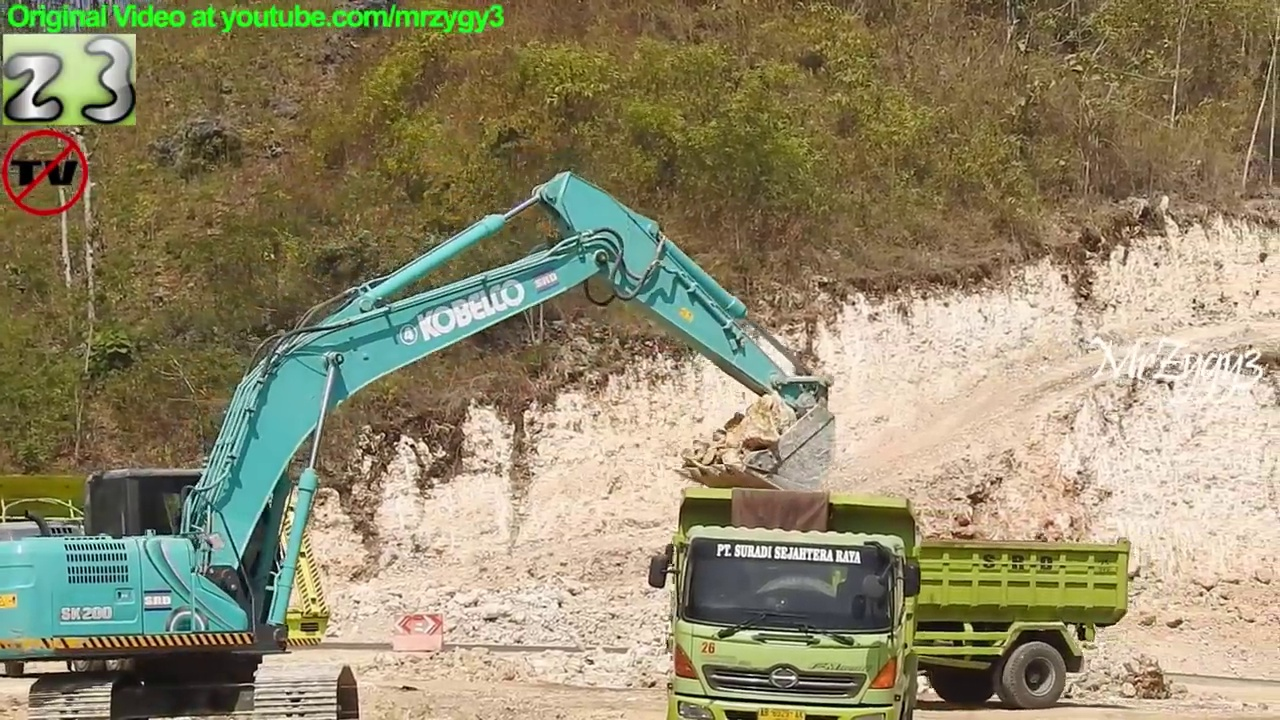excavator: (1, 165, 841, 720)
truck: (707, 502, 1134, 713), (1, 465, 334, 683), (647, 488, 926, 720)
